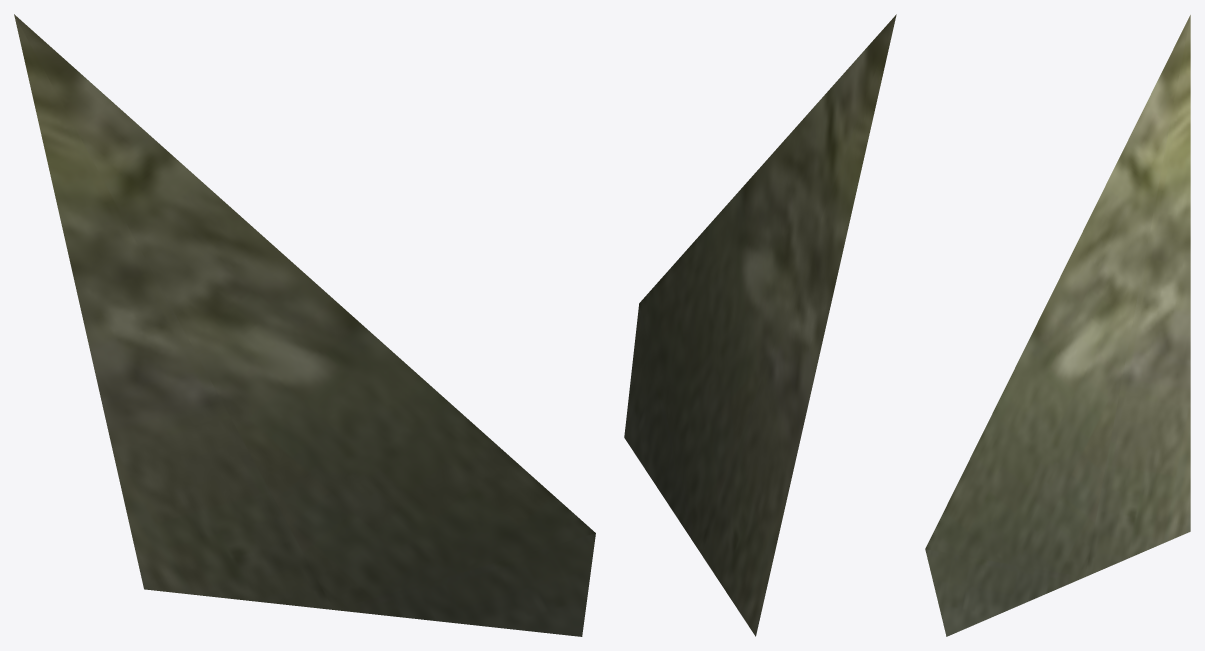
The picture shows the model from 3 angles, left to right: view 1: azimuth 30°, elevation 25°; view 2: azimuth 150°, elevation 25°; view 3: azimuth 270°, elevation 25°; orthographic projection. The views are drawn at different scales.
Size of the model in its own units: 1.41 by 2 by 1.03.
Materials: 1 (1 with a texture image).
